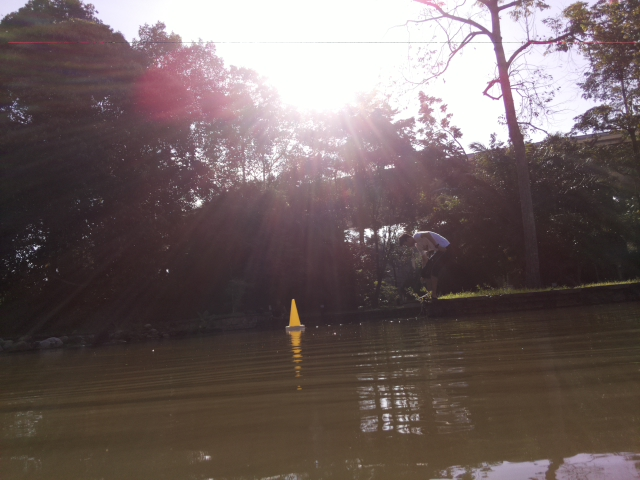checkpoint: (283, 297, 305, 332)
